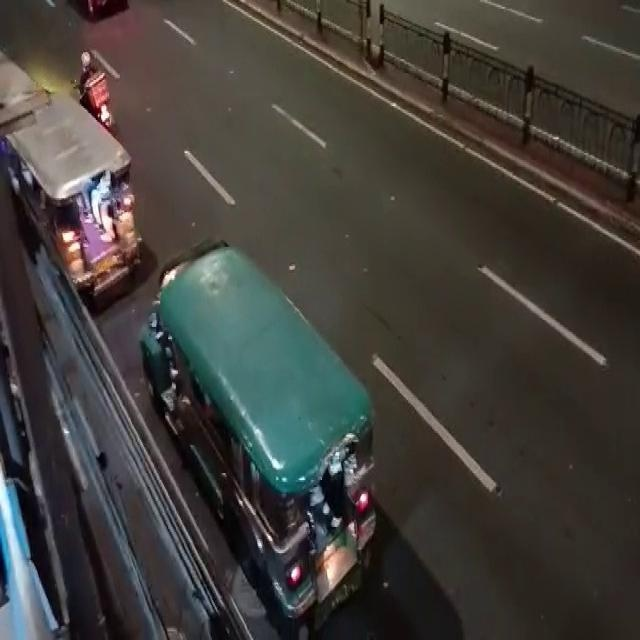jeepney: (7, 81, 636, 310), (258, 227, 517, 638)
motorcycle: (74, 44, 566, 143)
